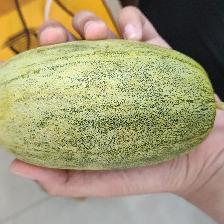gua: (7, 40, 218, 160)
